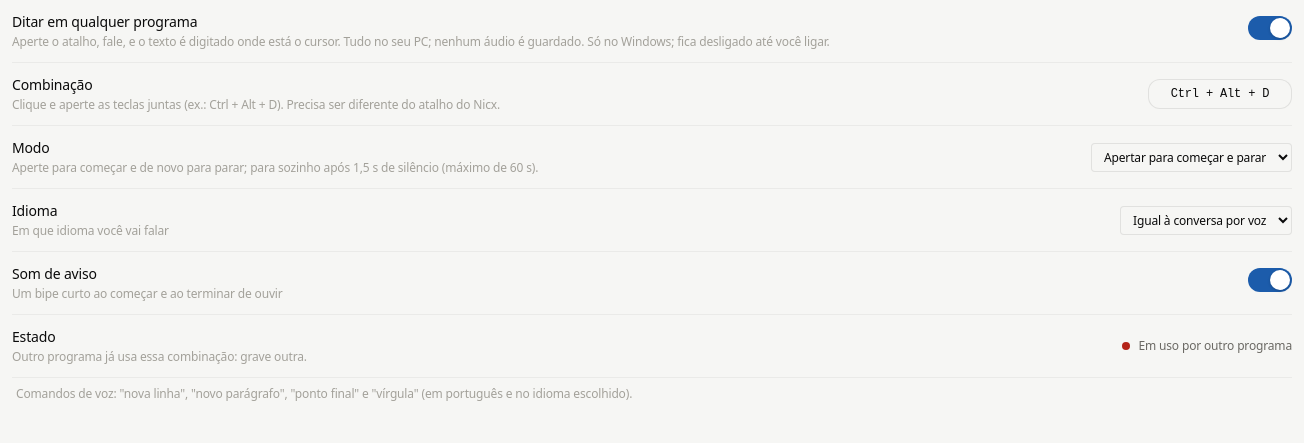
Test: DictationSettings › mostra quando a combinação está em uso e o erro do servidor
Expected: the text with test id "dictation-state" reads "Em uso por outro programa", [1138,337,1292,354]
Expected: the text "Outro programa já usa essa combinação: grave outra." is shown, [12,349,307,365]
Click the button with test id "dictation-recorder". click: [1220, 94]
box: [1148,79,1292,109]
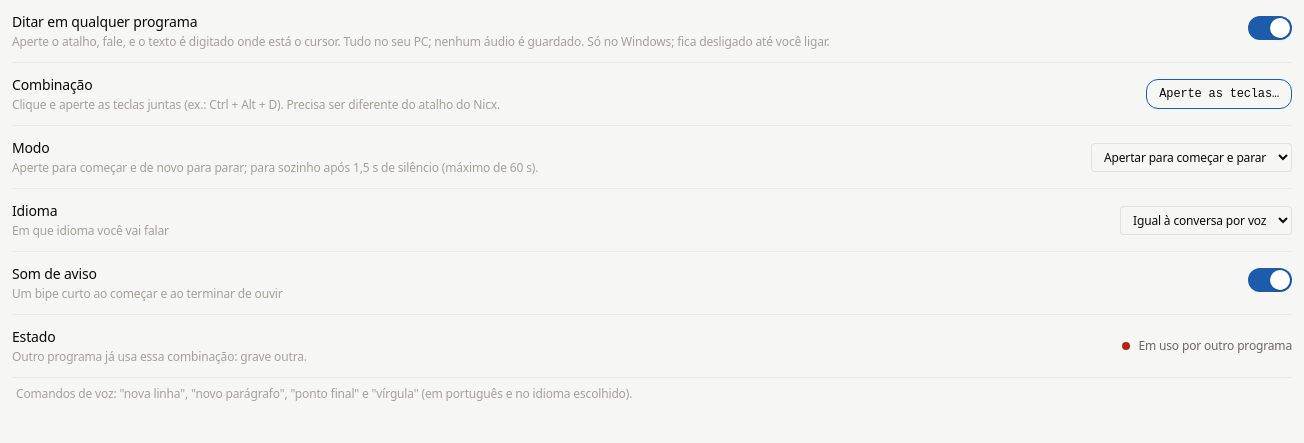
Press n in the button with test id "dictation-recorder", box [1146,79,1292,109]
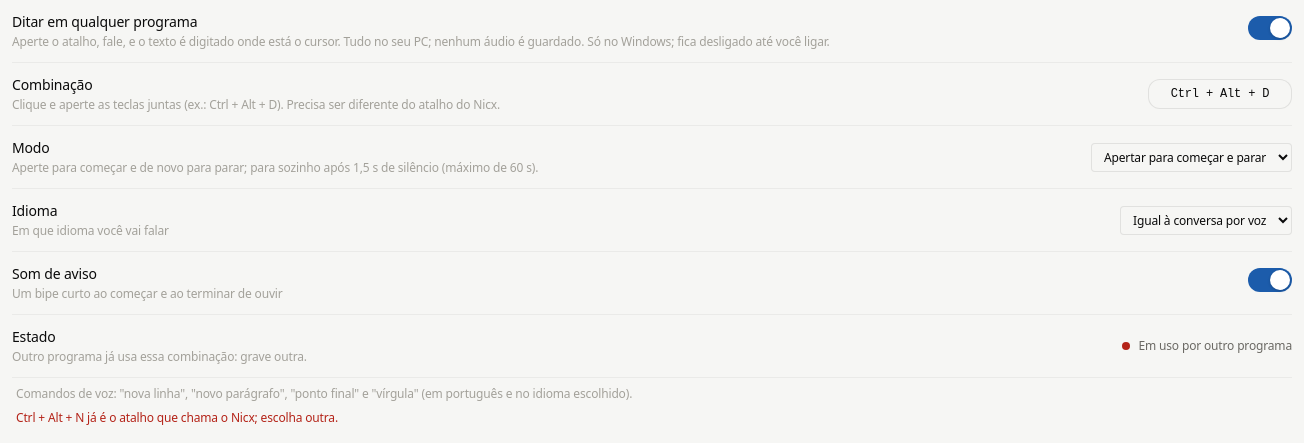
Expected: the text "Ctrl + Alt + N já é o atalho que chama o Nicx; escolha outra." is shown, [16,409,338,426]
